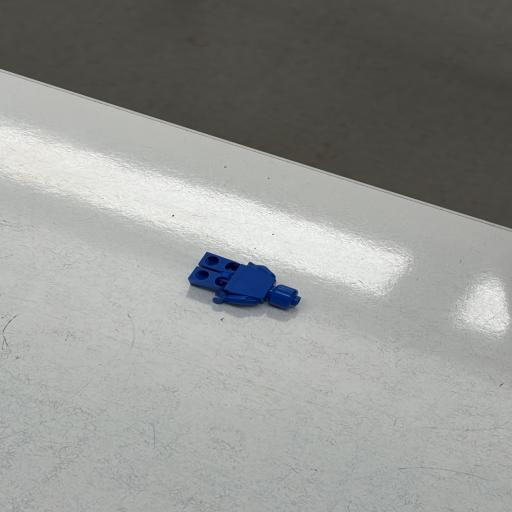Blue-Lego: (188, 252, 301, 309)
